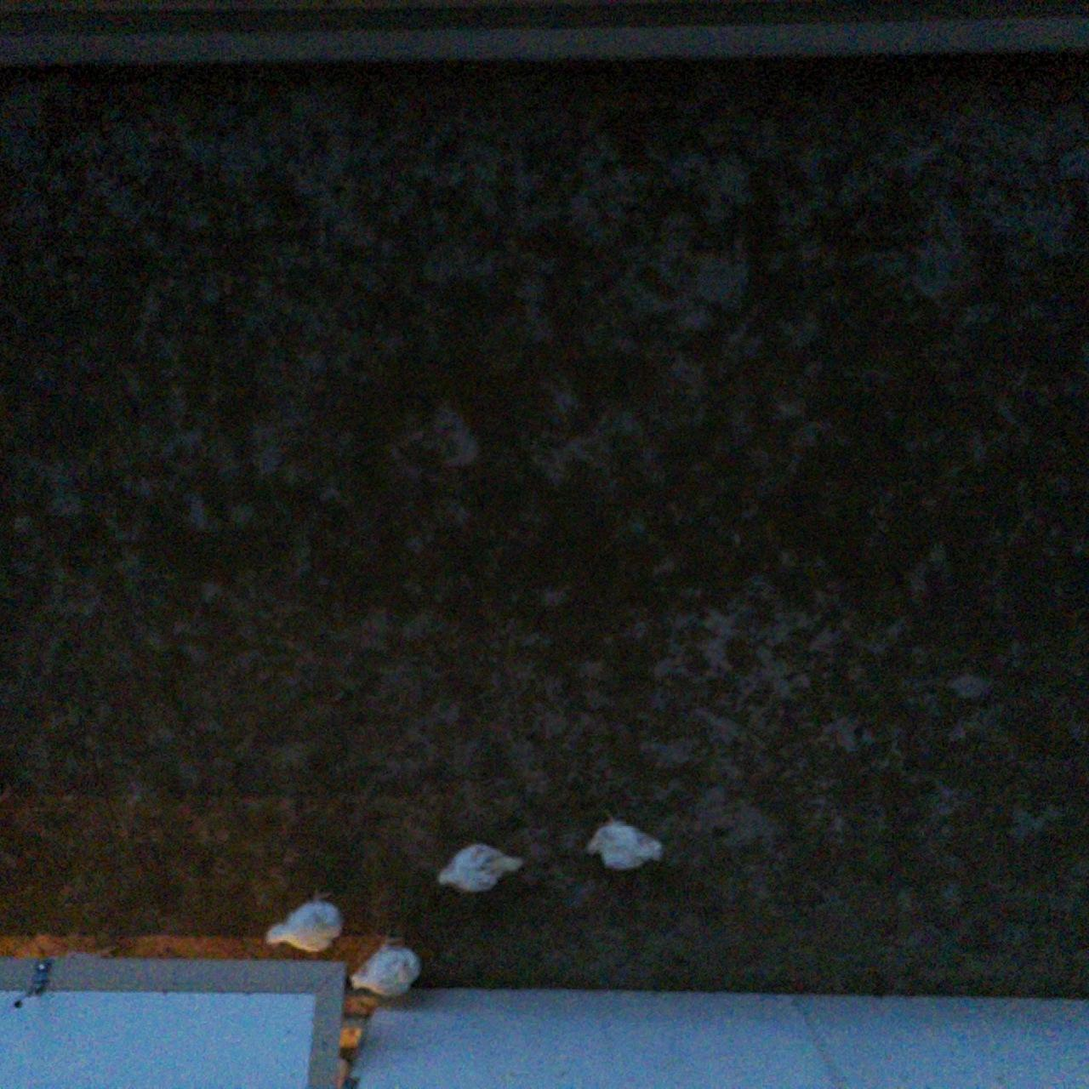chicken: (577, 802, 668, 879), (261, 884, 348, 961), (432, 834, 530, 901), (345, 925, 423, 1003)
